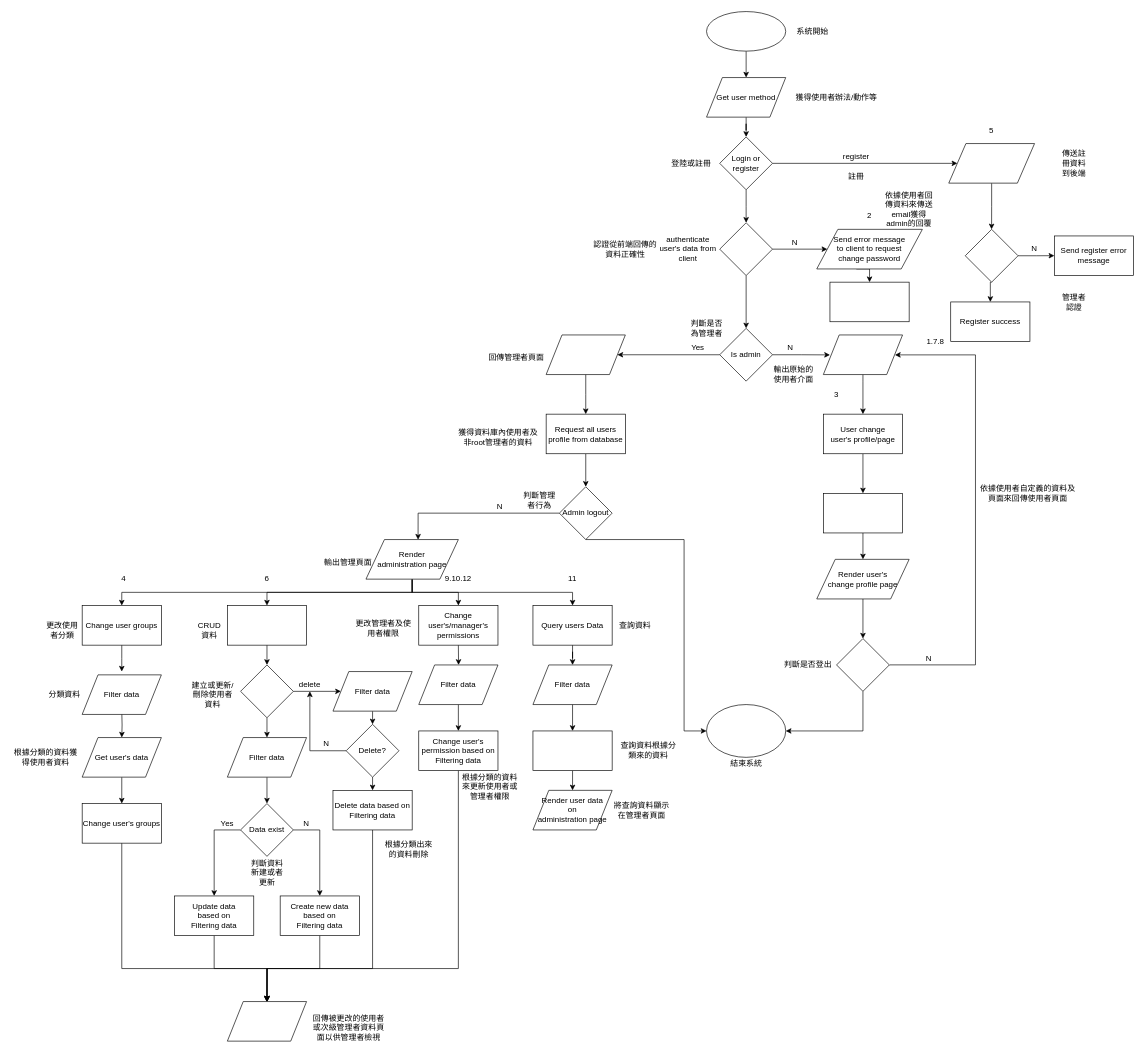
This 1145x1053 diagram has some shape labels left out. Each missing label, with the box of its shape:
Admin Decision: (965, 229, 1018, 282)
Admin render password for user: (829, 281, 909, 322)
Create/update or delete data: (240, 664, 293, 718)
CRUD for user's data: (227, 605, 307, 645)
End Service: (706, 704, 786, 757)
From database request user's profile: (823, 493, 903, 533)
Query data based on Filtering data: (532, 730, 612, 771)
Render admin page: (545, 334, 625, 375)
Render user's own page: (823, 334, 903, 375)
Render user's profile page: (227, 1001, 307, 1041)
Send register data to back-end: (948, 143, 1035, 183)
Start Service: (706, 11, 786, 51)
User data is valid: (719, 222, 773, 276)
User logout: (836, 638, 889, 691)
